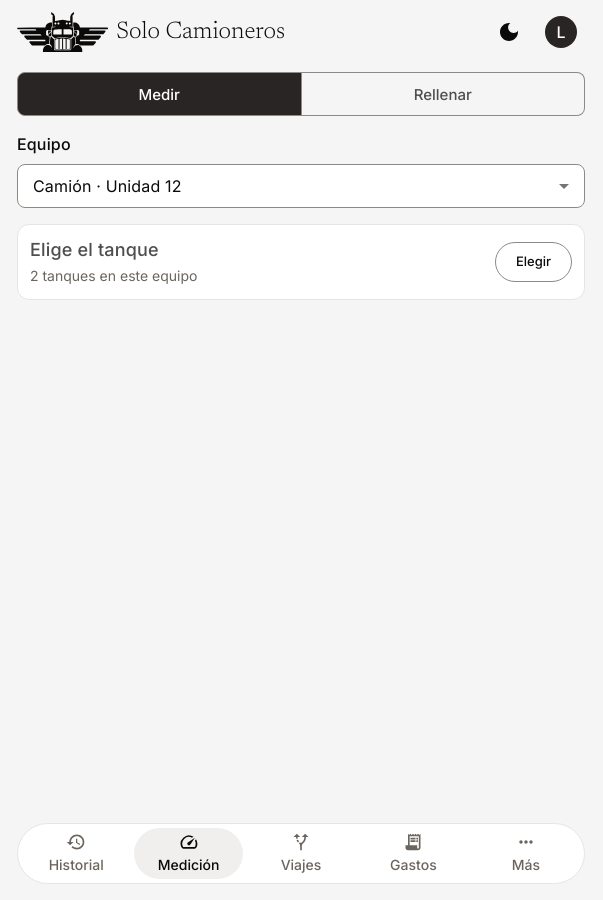
Test: a trailer with a single tank picks it by itself (CA-1)
This screenshot has width=603, height=900.
Press the mouse on the dropdown labelled "Equipo" at [273, 186], box [17,164,529,208]
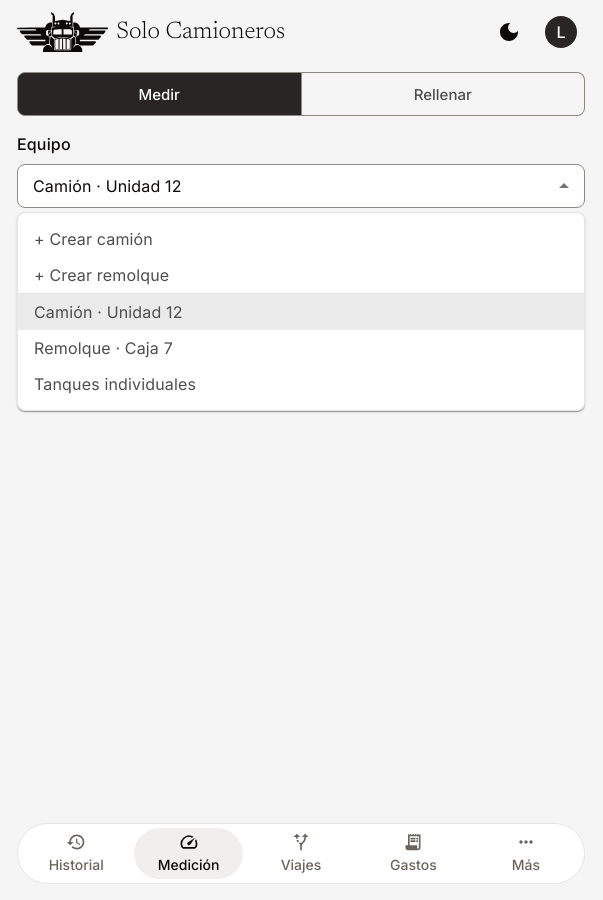
Click the option "Remolque · Caja 7" at [103, 348], box [34,338,173,358]
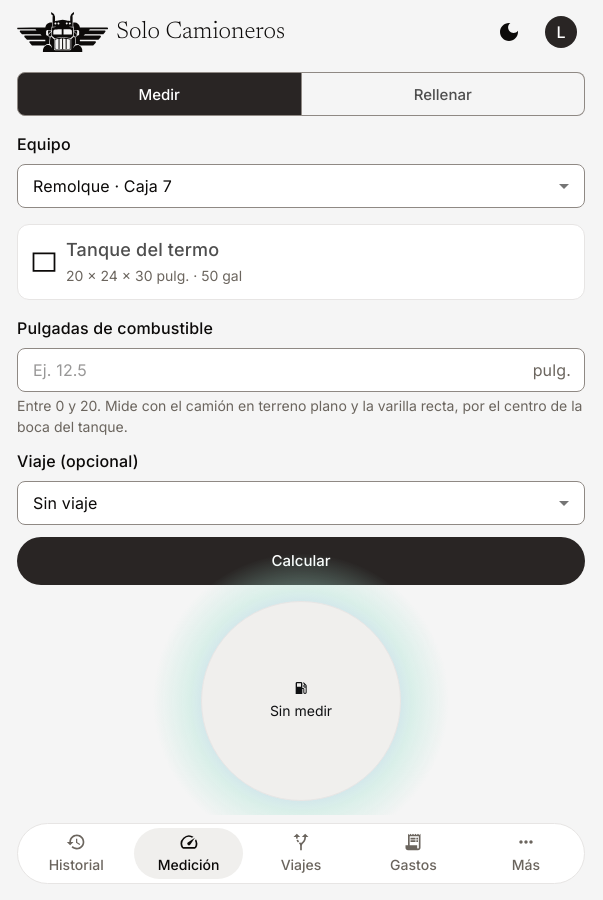
Expected: the text "Tanque del termo" is shown, [66,239,219,260]
